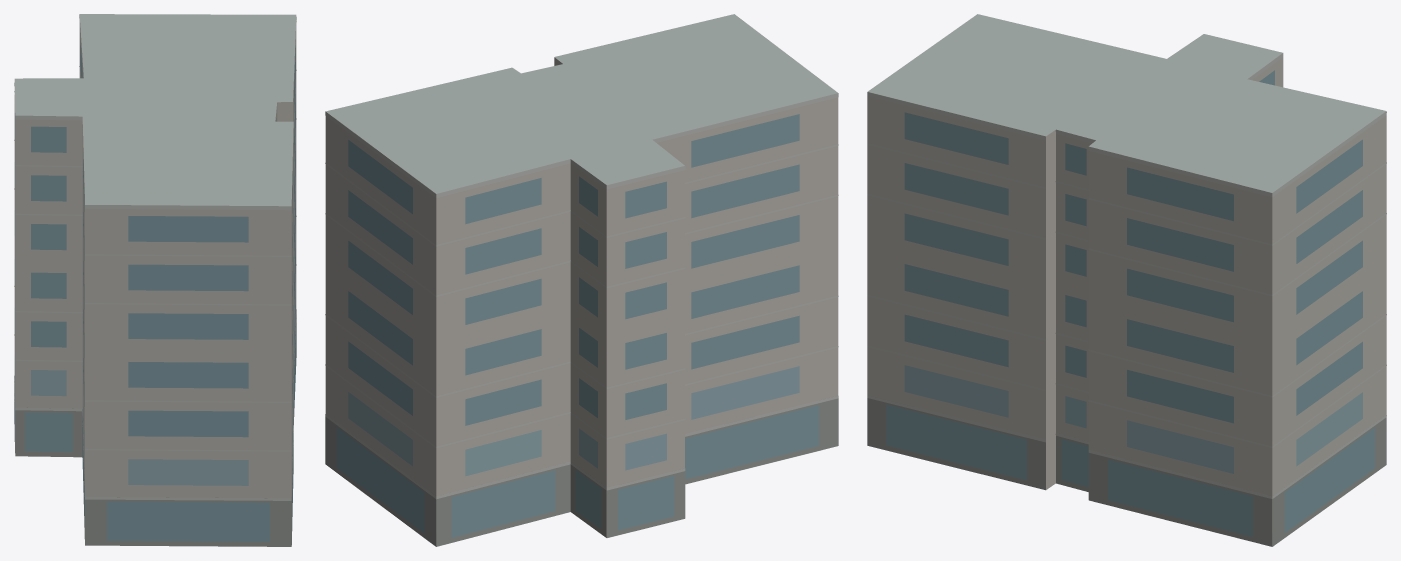
File: survey-upis-32946390.glb
The picture shows the model from 3 angles, left to right: view 1: azimuth 30°, elevation 25°; view 2: azimuth 150°, elevation 25°; view 3: azimuth 270°, elevation 25°; orthographic projection. The views are drawn at different scales.
Visible parts, largest first — view 1: survey-upis-32946390.tmp; view 2: survey-upis-32946390.tmp; view 3: survey-upis-32946390.tmp.
Boxes of the visible parts, bbox=[...] form: survey-upis-32946390.tmp: bbox=[14, 14, 296, 546]; survey-upis-32946390.tmp: bbox=[325, 14, 838, 546]; survey-upis-32946390.tmp: bbox=[867, 14, 1386, 546].
Bounding box in the file's own units: 22.7 × 20.9 × 27.82.
